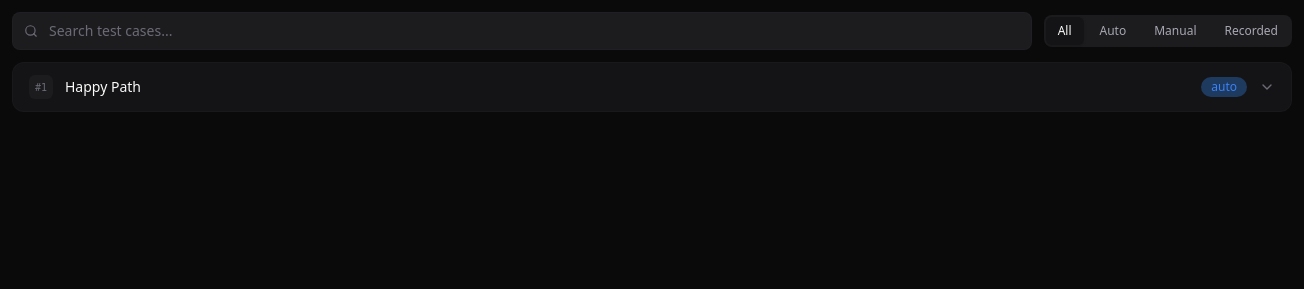
Test: TestCasesPanel › collapses test case on second click
Click the text "Happy Path" at point(103, 86), box top-left (65, 77), bottom-right (141, 96)
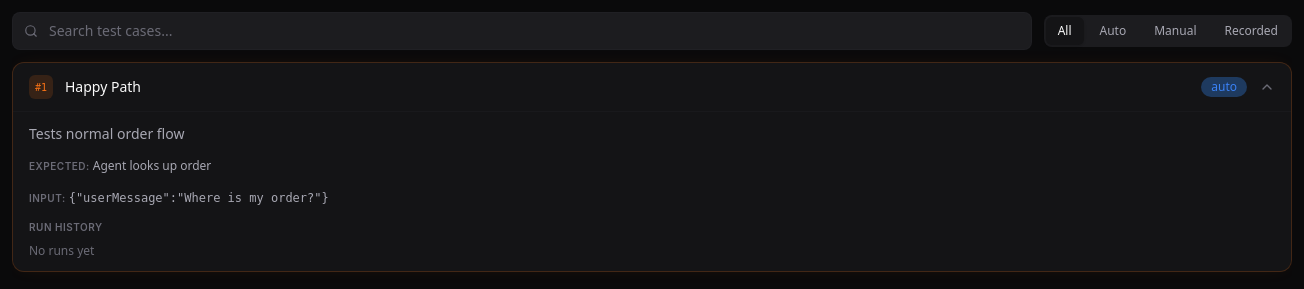
Expected: the text "Agent looks up order" is shown, top-left (93, 157), bottom-right (211, 174)
Click the text "Happy Path" at point(103, 86), box top-left (65, 77), bottom-right (141, 96)
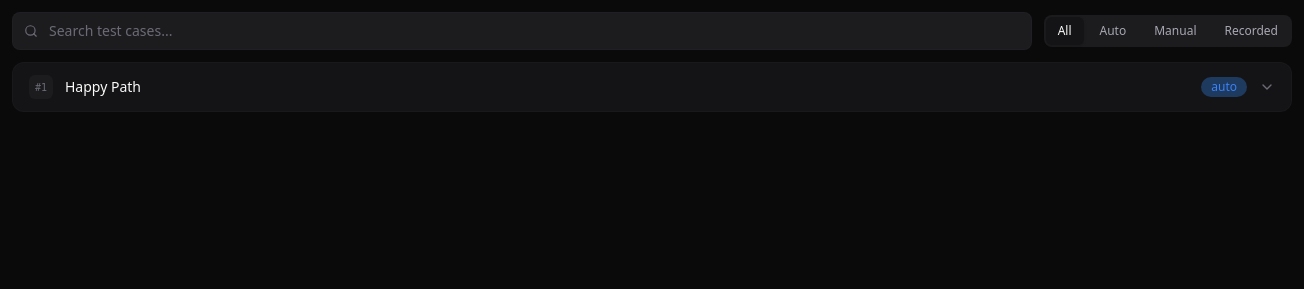
Expected: the text "Agent looks up order" is gone
